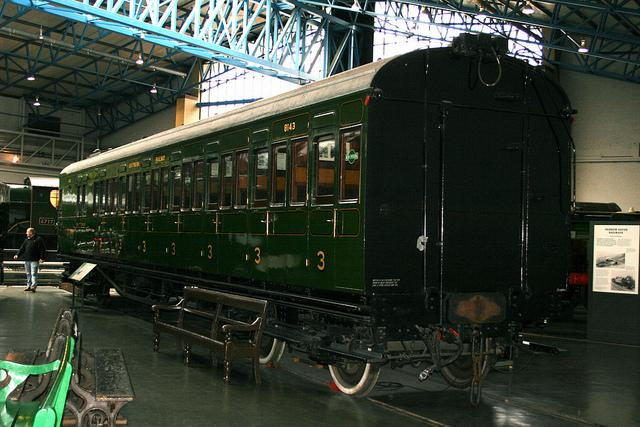Train: (54, 37, 578, 391), (0, 177, 61, 248)
